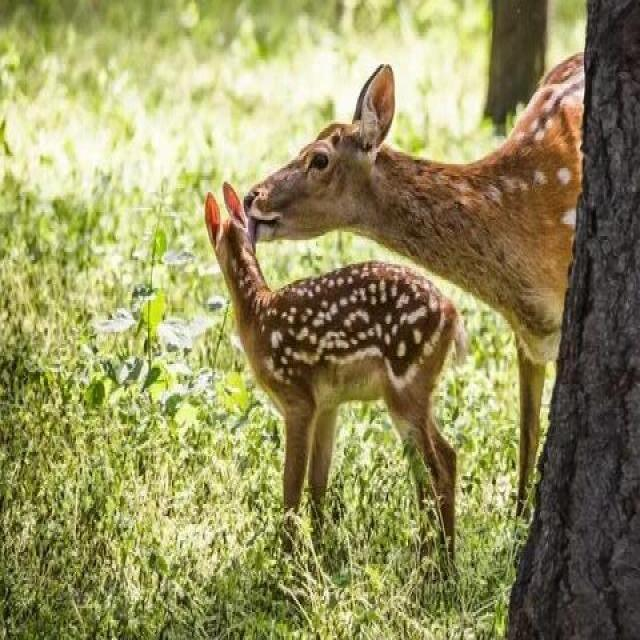deer: (175, 180, 479, 583), (272, 64, 640, 357)
